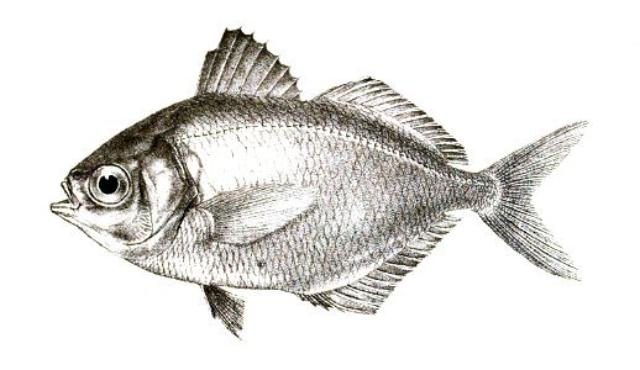Mulut: (38, 158, 96, 242)
Sirip Anal: (295, 210, 467, 322)
Sirip Dada: (196, 175, 324, 251)
Sirip Ekor: (483, 109, 599, 286)
Sirip Perut: (197, 276, 257, 344)
Sirip Punggung: (196, 19, 476, 171)
